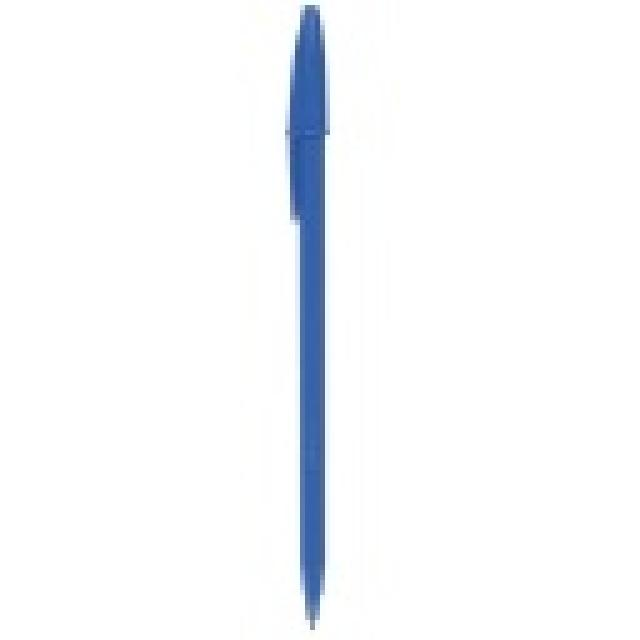pen: (280, 6, 338, 634)
